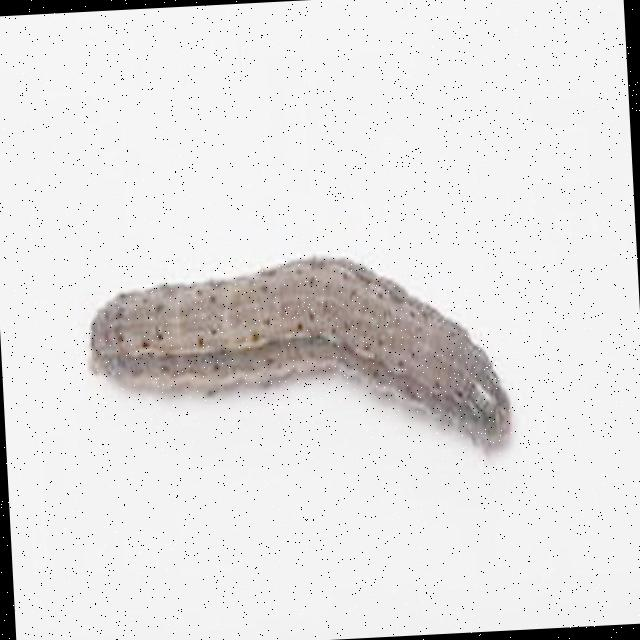worm: (84, 244, 516, 478)
